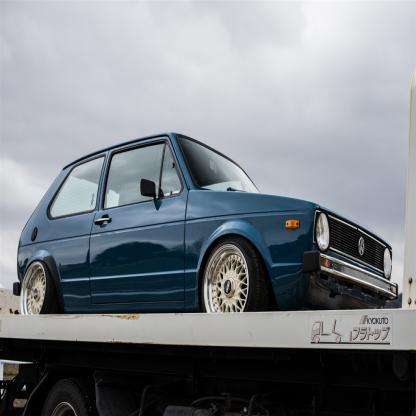Car: (13, 131, 399, 314)
